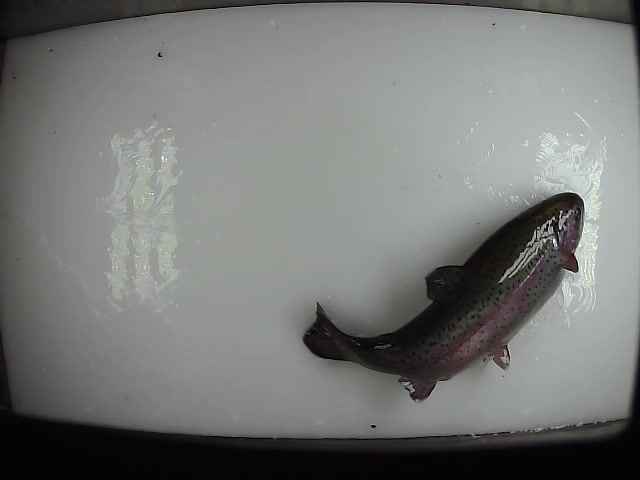fish: (301, 189, 588, 404)
